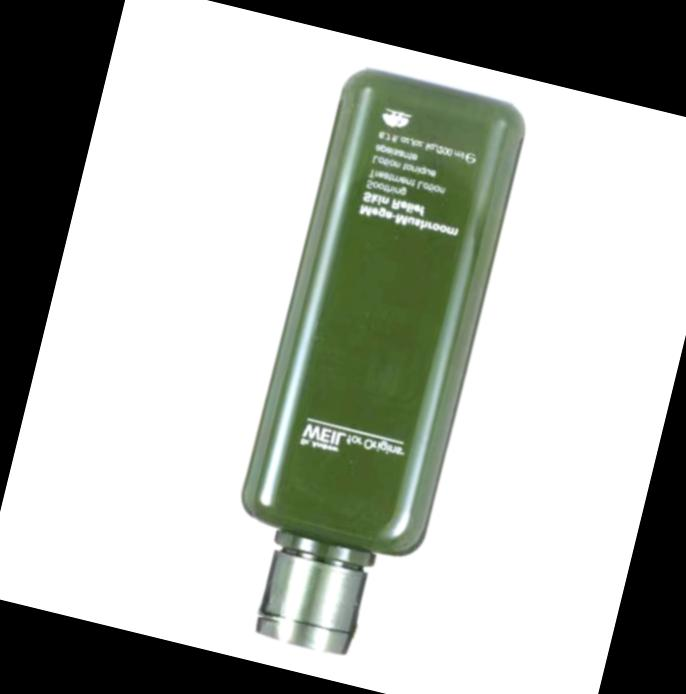cosmetic: (205, 58, 534, 676)
